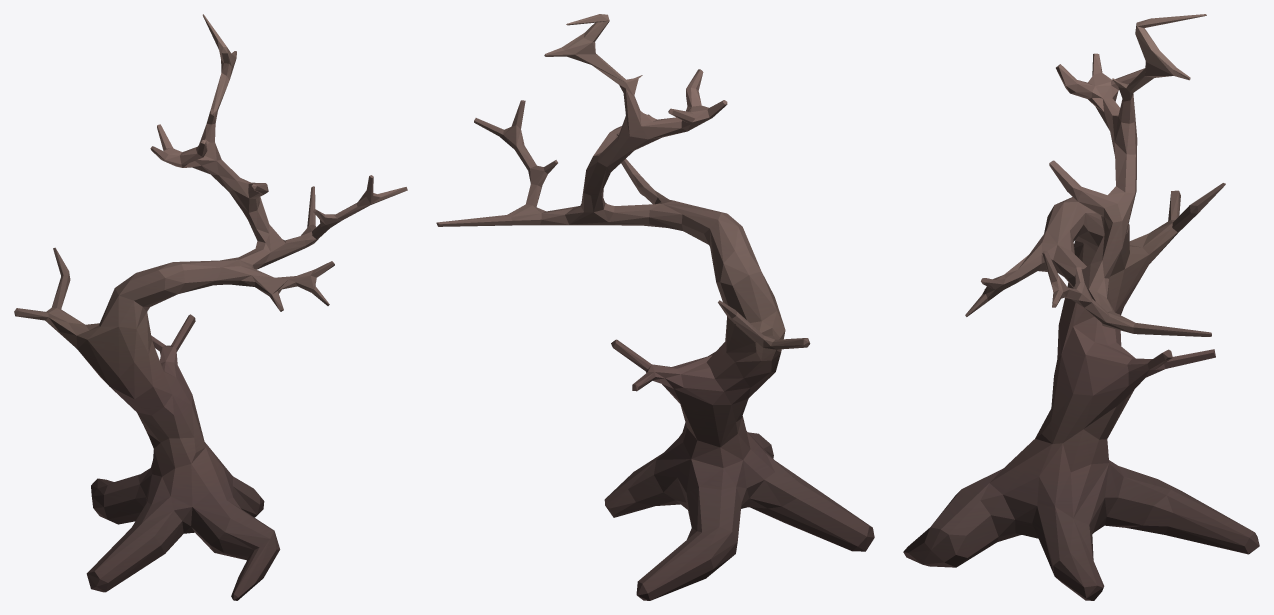
Rendered from tree1.glb.
3 views of the same model, side by side, from view 1: azimuth 30°, elevation 25°; view 2: azimuth 150°, elevation 25°; view 3: azimuth 270°, elevation 25° (orthographic). The views are drawn at different scales.
Visible parts, largest first — view 1: tree1; view 2: tree1; view 3: tree1.
Boxes of the visible parts, x1,y1,x2,y2 form: tree1: (14,14,407,600); tree1: (436,14,874,600); tree1: (903,14,1259,600).
Size of the model in its own units: 3.27 by 4.35 by 2.36.
Materials: 1 (1 with a texture image).
